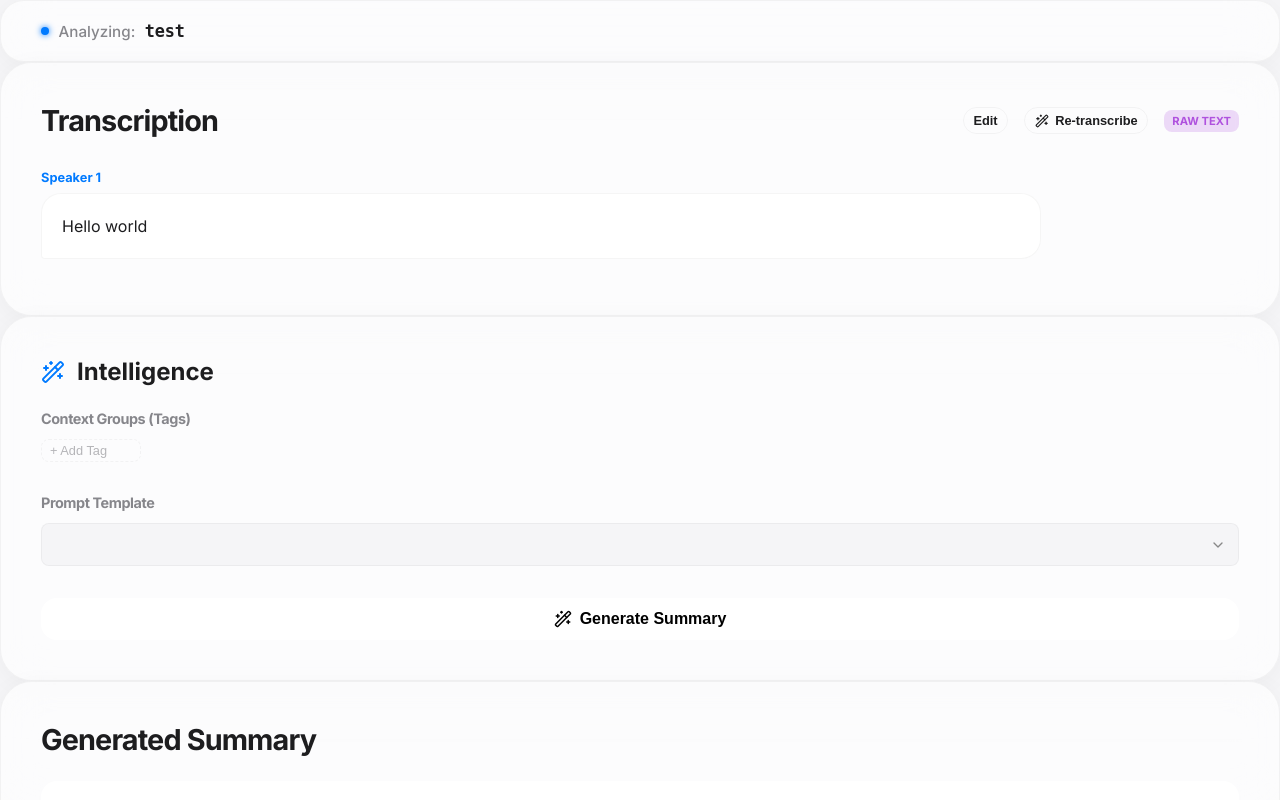
AnalysisTab › renders transcript and allows edit toggle
Expected: the text "Hello world" is shown, [41,193,1041,259]
Click the button "Edit".
click(986, 120)  # box [963,107,1008,134]
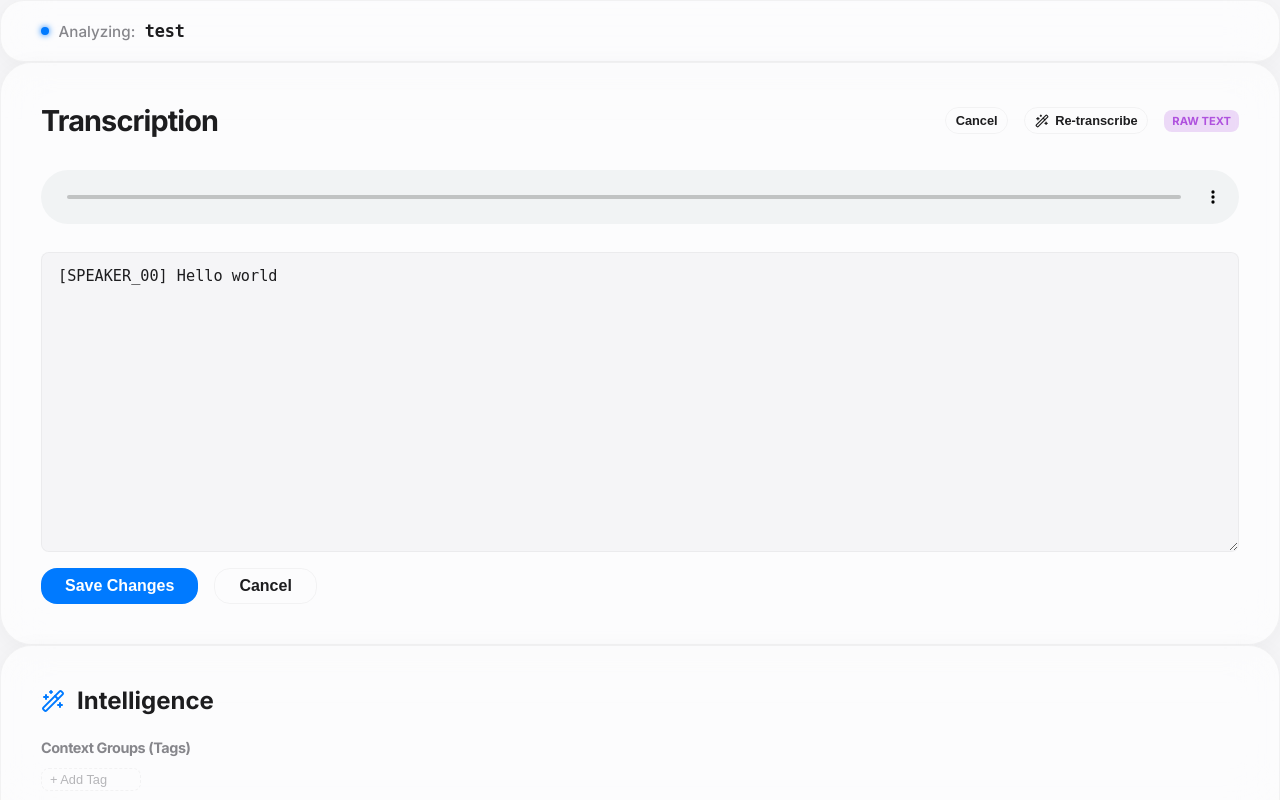
Result: the text box is shown at [41,252,1239,552]
